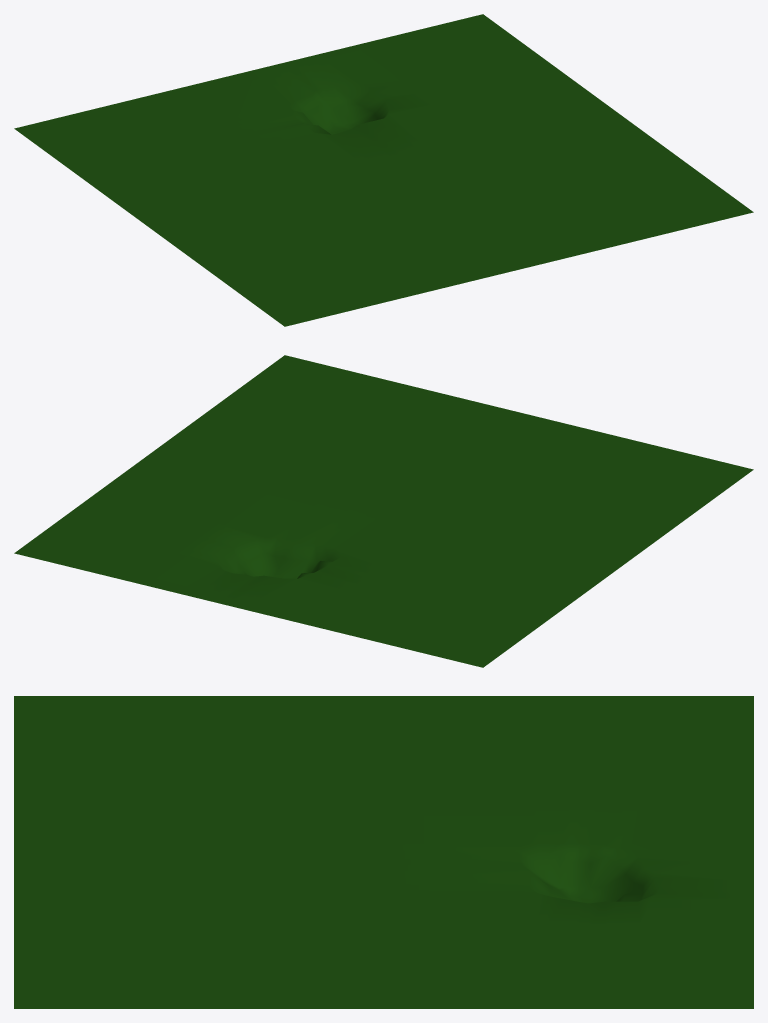
The model's file is planeTest.fbx.
The picture shows the model from 3 angles, top to bottom: view 1: azimuth 30°, elevation 25°; view 2: azimuth 150°, elevation 25°; view 3: azimuth 270°, elevation 25°; orthographic projection. The views are drawn at different scales.
Parts seen in each view (by area): view 1: pPlane1; view 2: pPlane1; view 3: pPlane1.
Part boxes in pixels (left/top/right/bottom): pPlane1: left=14, top=14, right=753, bottom=326; pPlane1: left=14, top=355, right=753, bottom=667; pPlane1: left=14, top=696, right=753, bottom=1008.
Bounding box in the file's own units: 4566 × 219 × 4566.
